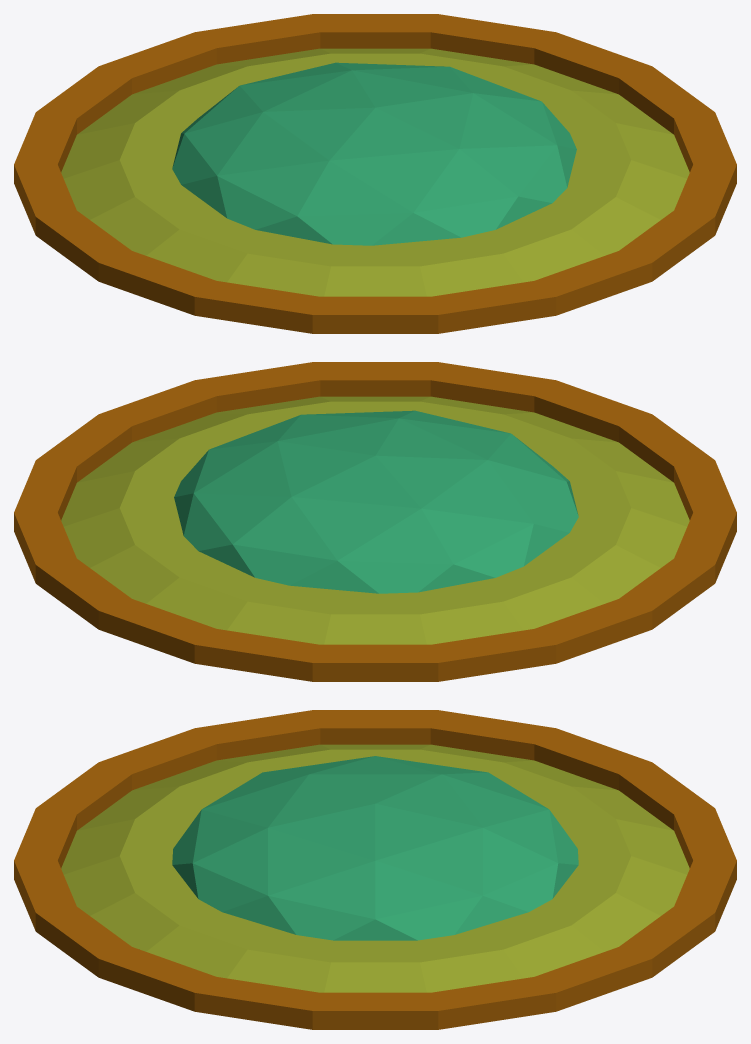
File: top_light.obj
3 renders of one model, top to bottom at view 1: azimuth 30°, elevation 25°; view 2: azimuth 150°, elevation 25°; view 3: azimuth 270°, elevation 25°, orthographic.
Visible parts, largest first — view 1: Icosphere, Icosphere.002, Icosphere.001; view 2: Icosphere, Icosphere.002, Icosphere.001; view 3: Icosphere, Icosphere.002, Icosphere.001.
Part boxes in pixels (left/top/right/bottom): Icosphere: left=61, top=48, right=689, bottom=296; Icosphere.002: left=14, top=14, right=736, bottom=333; Icosphere.001: left=172, top=62, right=576, bottom=245; Icosphere: left=61, top=396, right=689, bottom=644; Icosphere.002: left=14, top=362, right=736, bottom=681; Icosphere.001: left=174, top=410, right=578, bottom=593; Icosphere: left=61, top=744, right=689, bottom=992; Icosphere.002: left=14, top=710, right=736, bottom=1029; Icosphere.001: left=172, top=756, right=578, bottom=940.
Size of the model in its own units: 10.07 by 1.18 by 10.23.
